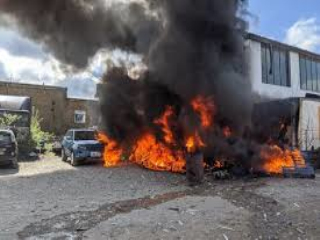fire: (97, 99, 225, 175), (254, 139, 304, 181)
smoke: (52, 1, 280, 122)
